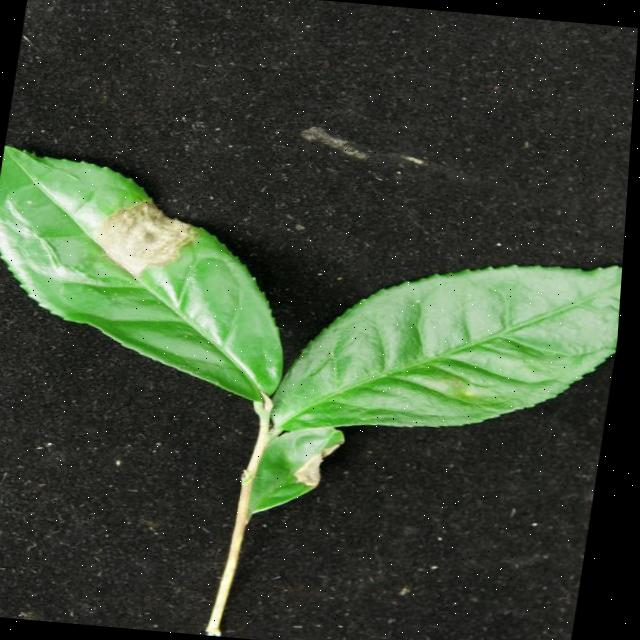Tea exobasidium blight: (79, 192, 199, 282)
